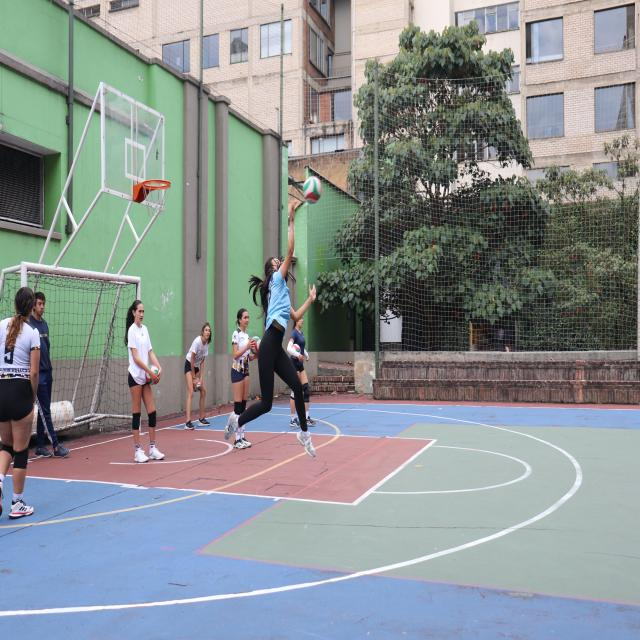volleyball: (303, 176, 321, 204), (146, 365, 158, 386), (250, 336, 262, 354), (193, 378, 201, 392), (292, 343, 301, 353)
